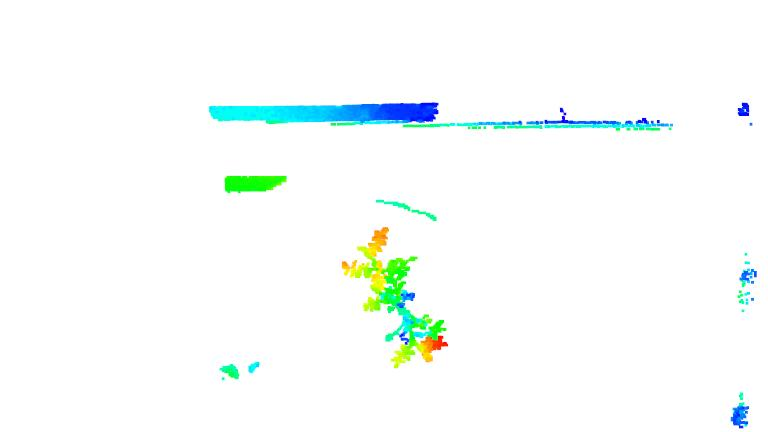chickpea: (332, 224, 417, 310), (376, 299, 451, 372)
